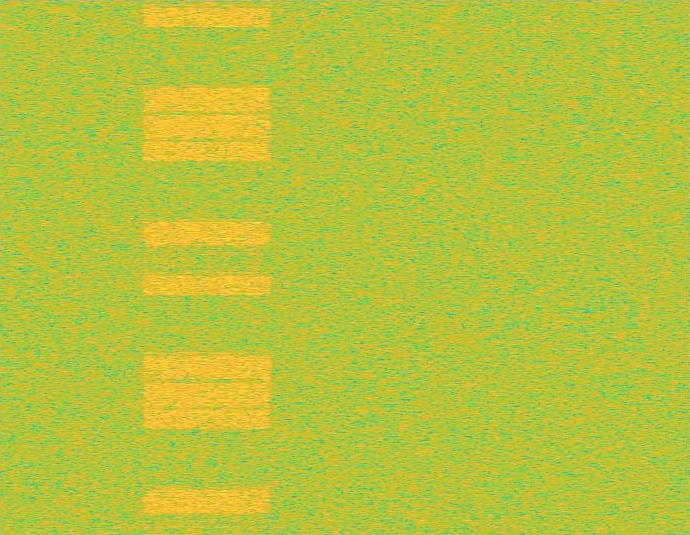LTE: (138, 0, 276, 534)
Radar: (221, 0, 235, 534)
